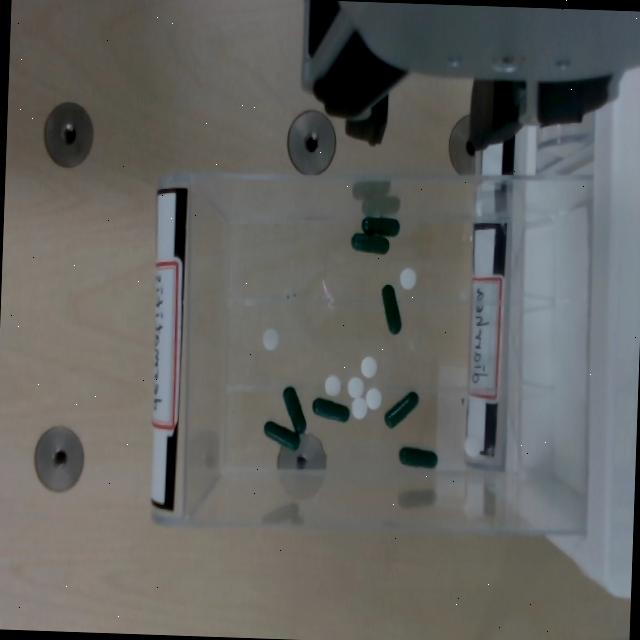ganakan_tab: (398, 266, 418, 292), (359, 355, 379, 380), (324, 374, 342, 399), (365, 385, 383, 410), (262, 328, 279, 351), (351, 395, 368, 418), (348, 376, 364, 398)
monodoxy_cap: (383, 390, 419, 432), (378, 284, 403, 336), (281, 386, 307, 434), (262, 421, 301, 452), (384, 392, 417, 428), (282, 387, 305, 435), (310, 397, 350, 424), (263, 421, 299, 449), (398, 445, 438, 470), (350, 232, 390, 257), (381, 284, 400, 335), (360, 216, 400, 238), (312, 399, 348, 423), (398, 446, 436, 468), (350, 232, 388, 254), (361, 217, 399, 237)
